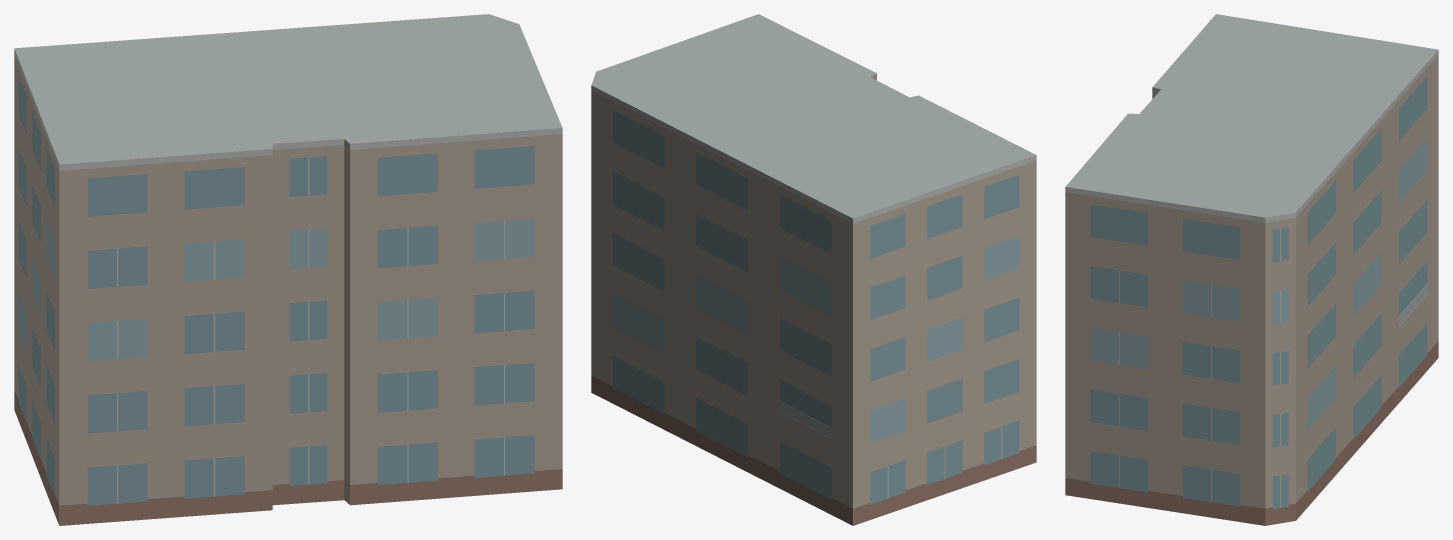
File: survey-upis-32616692.glb
The picture shows the model from 3 angles, left to right: view 1: azimuth 30°, elevation 25°; view 2: azimuth 150°, elevation 25°; view 3: azimuth 270°, elevation 25°; orthographic projection. The views are drawn at different scales.
Parts seen in each view (by area): view 1: survey-upis-32616692.tmp; view 2: survey-upis-32616692.tmp; view 3: survey-upis-32616692.tmp.
Boxes of the visible parts, x1,y1,x2,y2 form: survey-upis-32616692.tmp: (14,14,562,525); survey-upis-32616692.tmp: (591,14,1036,525); survey-upis-32616692.tmp: (1065,14,1438,525).
Bounding box in the file's own units: 20.26 × 14.3 × 15.7.
